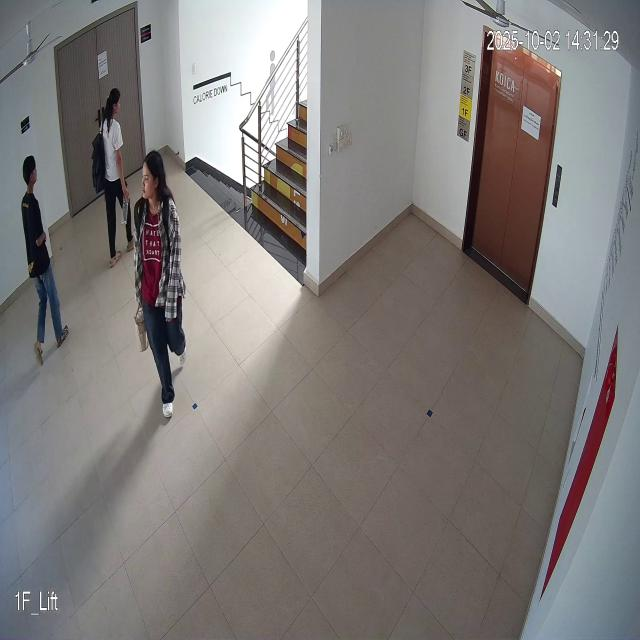face: (135, 148, 166, 207)
